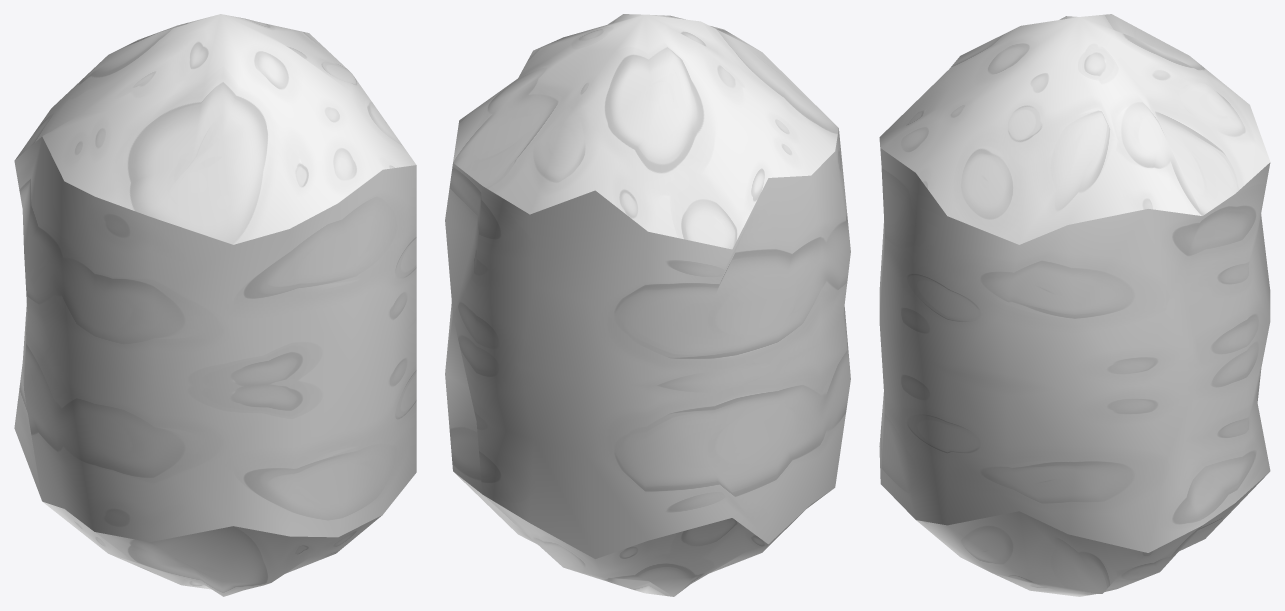
File: asteroid.FBX
3 views of the same model, side by side, from view 1: azimuth 30°, elevation 25°; view 2: azimuth 150°, elevation 25°; view 3: azimuth 270°, elevation 25° (orthographic).
Parts seen in each view (by area): view 1: Cylinder001; view 2: Cylinder001; view 3: Cylinder001.
Part boxes in pixels (x1=…): Cylinder001: x1=14, y1=14, x2=416, y2=596; Cylinder001: x1=445, y1=14, x2=850, y2=596; Cylinder001: x1=879, y1=14, x2=1270, y2=596.
Bounding box in the file's own units: 17 × 27.4 × 16.74.
Materials: 1 (1 with a texture image).
